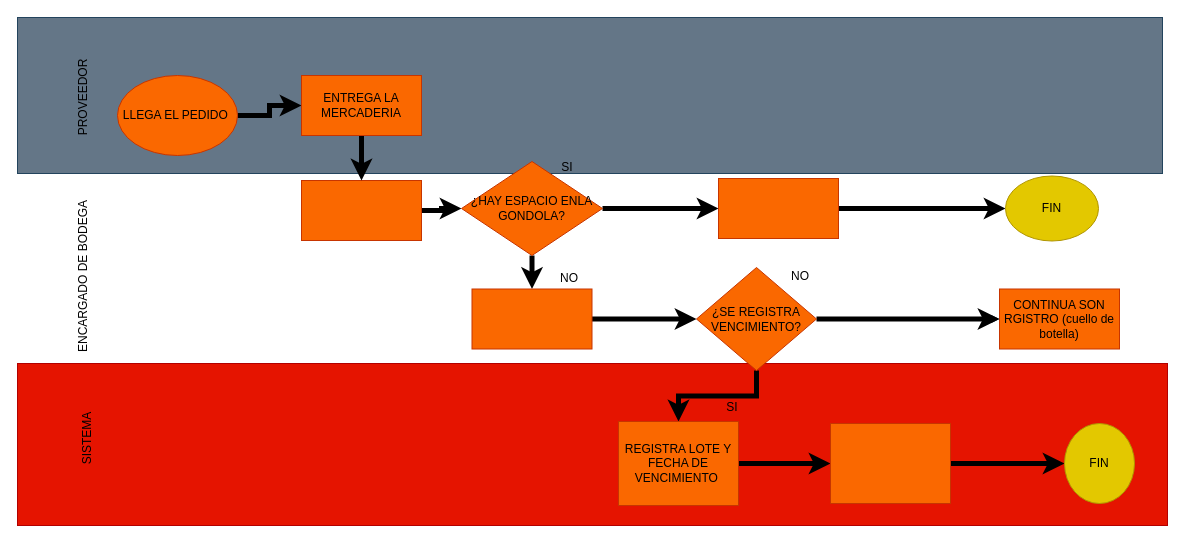
Some shapes in this 1185 by 543 pixel diagram are drawn without their labels. Here are the shapes that lost their labels. From the top down, the centre of each, then its label:
At (361,210): "CUENTA LAS CAJAS".
At (778,208): "REPONE DIRECTO EN GONDOLA".
At (531,318): "DERIVA A BODEGA".
At (890,463): "ORDENA SALIDA POR FEFO (ORDER BY FECHA DE VENCIIENTO)".
